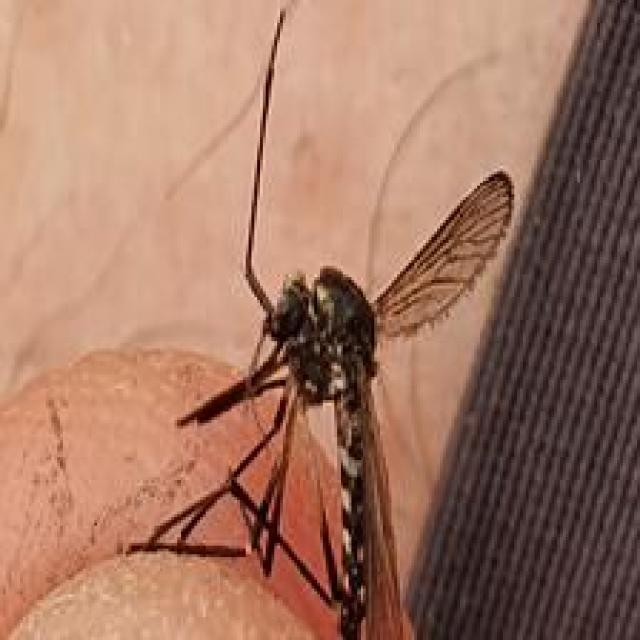Aedes albopictus: (123, 0, 517, 640)
